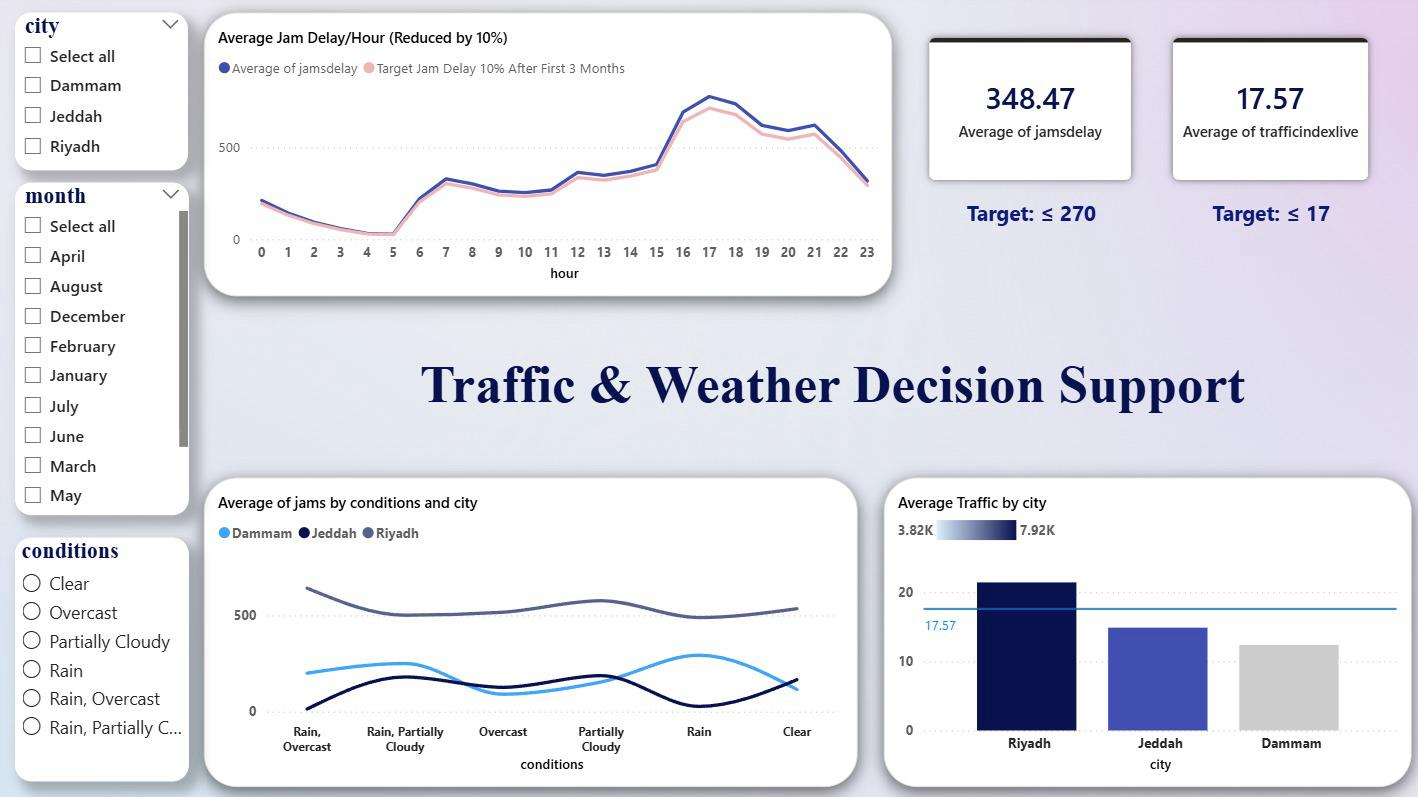

Layout of this report page (visuals, bound fields, positions):
{"tool":"powerbi","page":{"name":"Dashboard Overview","canvas":[1280,720],"ordinal":0},"visuals":[{"type":"cardVisual","title":"Avg Traffic Index","fields":{"Data":["Avg(Sheet1.trafficindexlive)"]},"box":[1034.7,11.3,222,174.7],"z":0},{"type":"cardVisual","title":"Avg Jams Delay","fields":{"Data":["Avg(Sheet1.jamsdelay)"]},"box":[814.9,11.3,228.8,174.7],"z":1000},{"type":"lineChart","title":" Average Jam Delay/Hour (Reduced by 10%)","fields":{"Y":["Avg(Sheet1.jamsdelay)","Sheet1.Target Jam Delay 10% First 3 Months"],"Category":["Sheet1.hour"]},"box":[183.7,11.3,621,255.9],"z":2000},{"type":"columnChart","title":"Average Traffic by city","fields":{"Category":["Sheet1.city"],"Y":["Avg(Sheet1.trafficindexlive)"]},"box":[796.9,430.6,475.6,279.5],"z":3000},{"type":"lineChart","title":" Average of jams by conditions and city","fields":{"Category":["Sheet1.conditions"],"Y":["Avg(Sheet1.jamsdelay)"],"Series":["Sheet1.city"]},"box":[183.7,430.6,589.5,279.5],"z":4000},{"type":"listSlicer","fields":{"Values":["Sheet1.conditions"]},"box":[13.3,485,156.7,220],"z":5000},{"type":"slicer","fields":{"Values":["Sheet1.city"]},"box":[13.8,11.2,156.2,142.5],"z":6000},{"type":"slicer","fields":{"Values":["Sheet1.month"]},"box":[13.3,165,156.7,300],"z":7000},{"type":"textbox","box":[322.4,314.5,856.6,81.2],"z":8000},{"type":"textbox","box":[854.4,174.7,151,41.7],"z":9000},{"type":"textbox","box":[1070.8,174.7,151,41.7],"z":10000}]}

Visuals, with their boxes in screenshot pixels (x1, y1, x2, y2), scaled from the page's 1280x720 canvas onto the 1418x797 screenshot:
"Avg Traffic Index" cardVisual: (1146,13,1392,206)
"Avg Jams Delay" cardVisual: (903,13,1156,206)
" Average Jam Delay/Hour (Reduced by 10%)" lineChart: (204,13,891,296)
"Average Traffic by city" columnChart: (883,477,1410,786)
" Average of jams by conditions and city" lineChart: (204,477,857,786)
listSlicer - Sheet1.conditions: (15,537,188,780)
slicer - Sheet1.city: (15,12,188,170)
slicer - Sheet1.month: (15,183,188,515)
textbox: (357,348,1306,438)
textbox: (947,193,1114,240)
textbox: (1186,193,1354,240)
